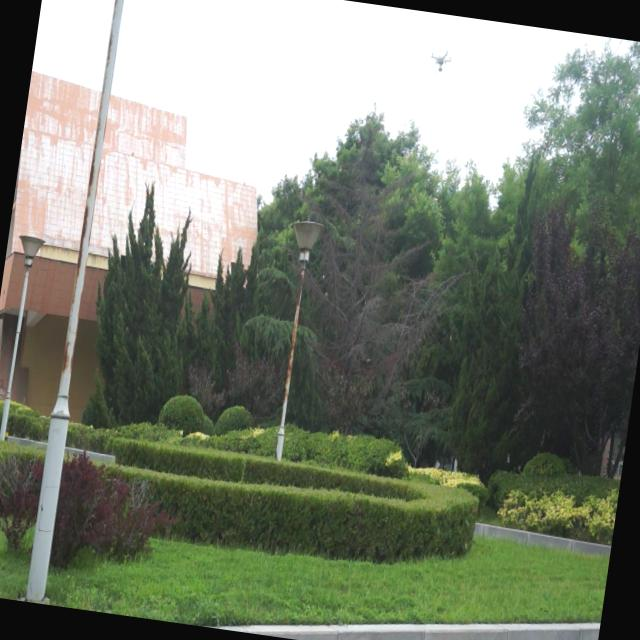drone: (424, 44, 456, 80)
